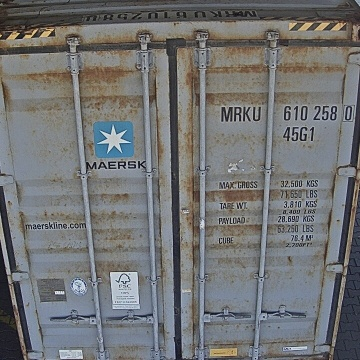serial_id: (221, 105, 354, 121)
